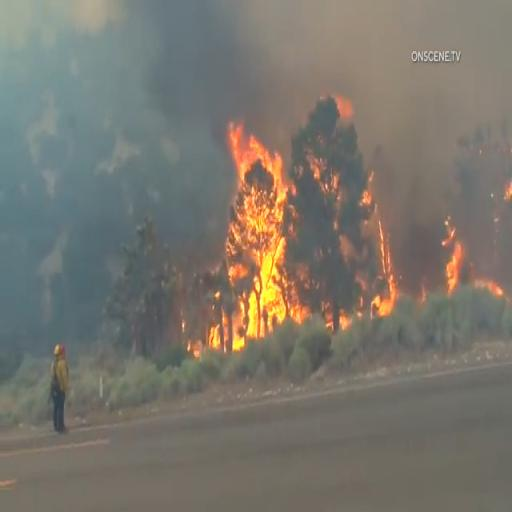fire: (219, 125, 285, 317)
